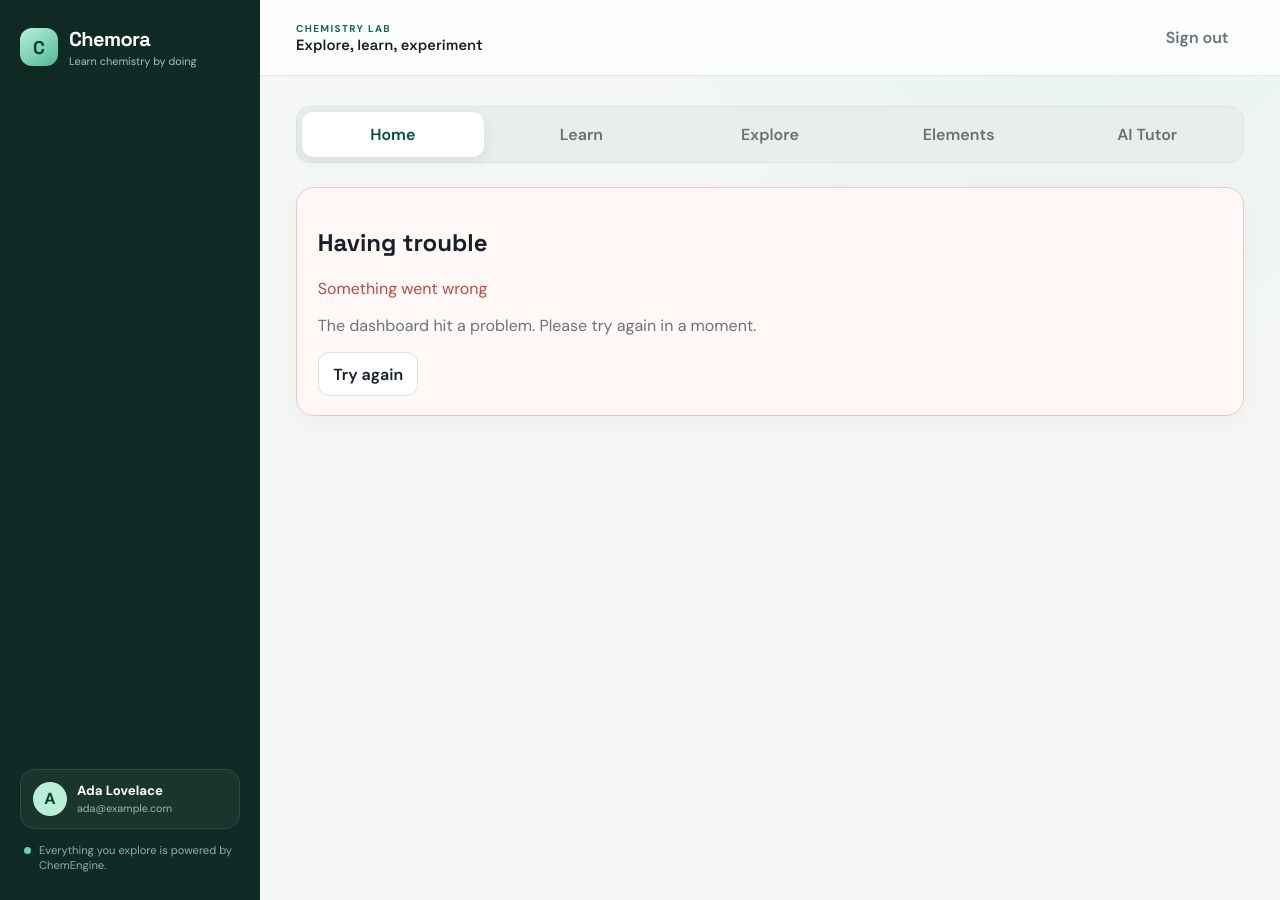
AI Chemistry Tutor (web) › surfaces structured backend errors before streaming starts
Expected: the button "Explore" is shown, [679,112,861,157]
Click the button "AI Tutor" at (1147, 135), box [1056,112,1238,157]
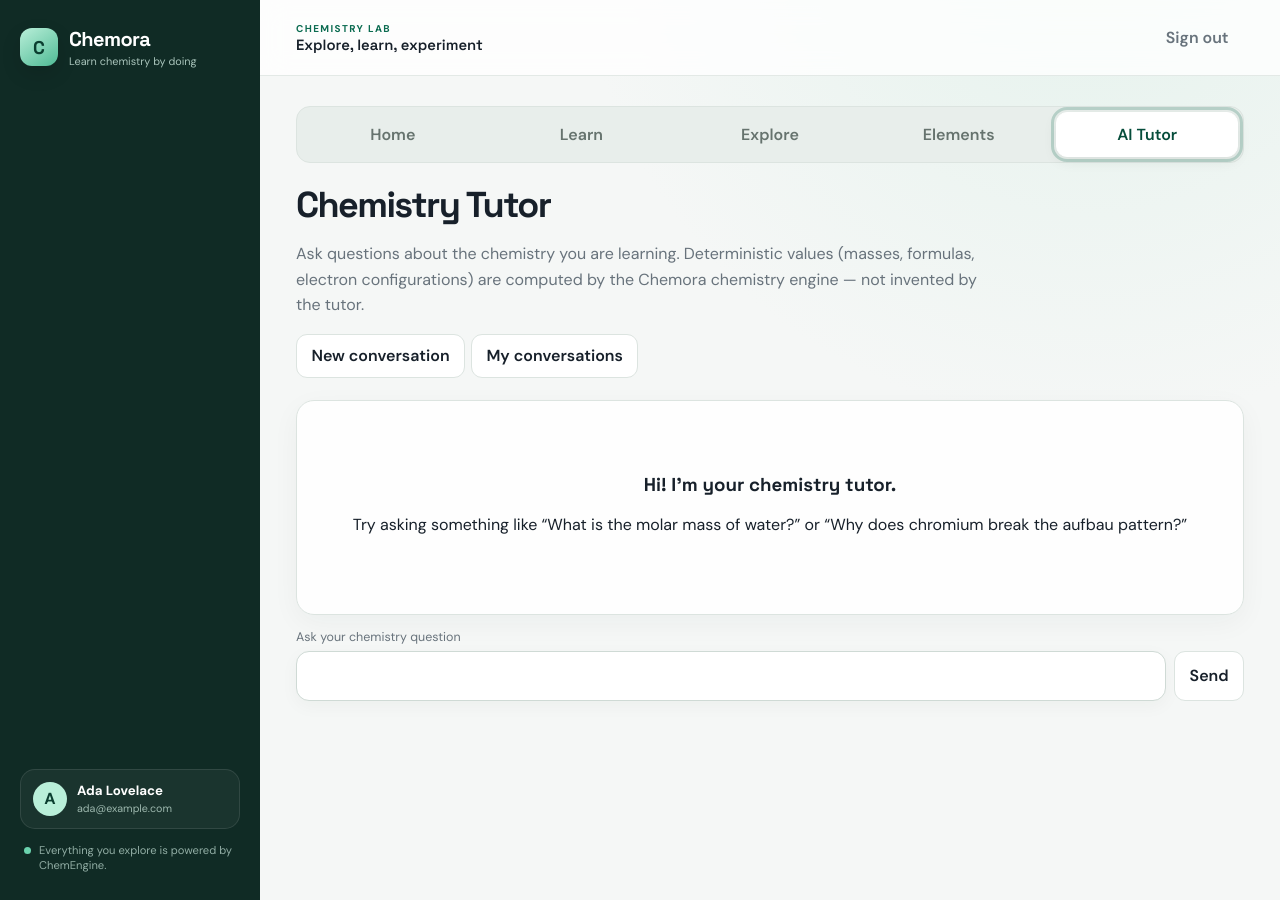
Type "hello" into the field labelled "Ask your chemistry question" at (731, 676), box [296,650,1166,701]
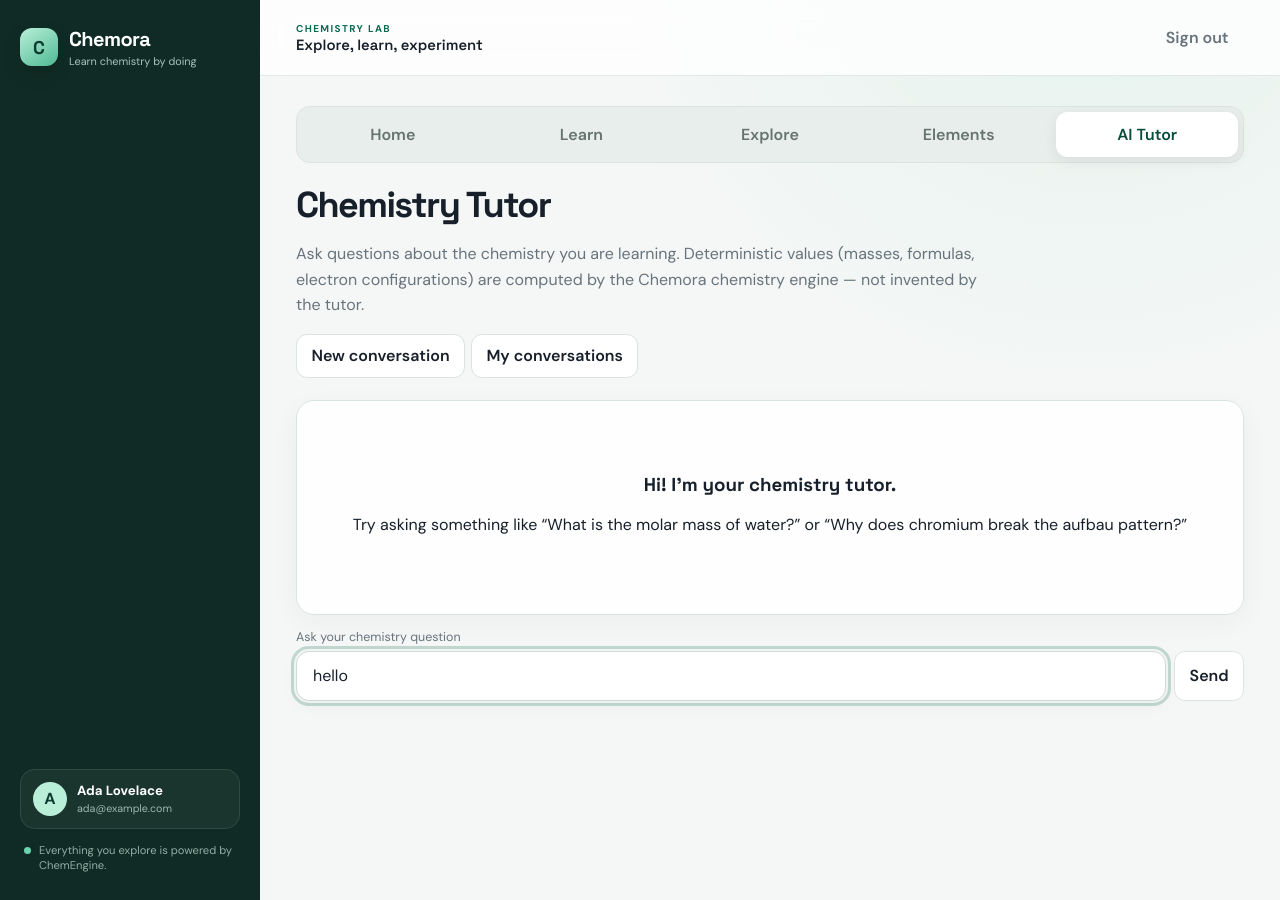
Click the button with test id "tutor-send" at (1209, 676), box [1174,650,1244,701]
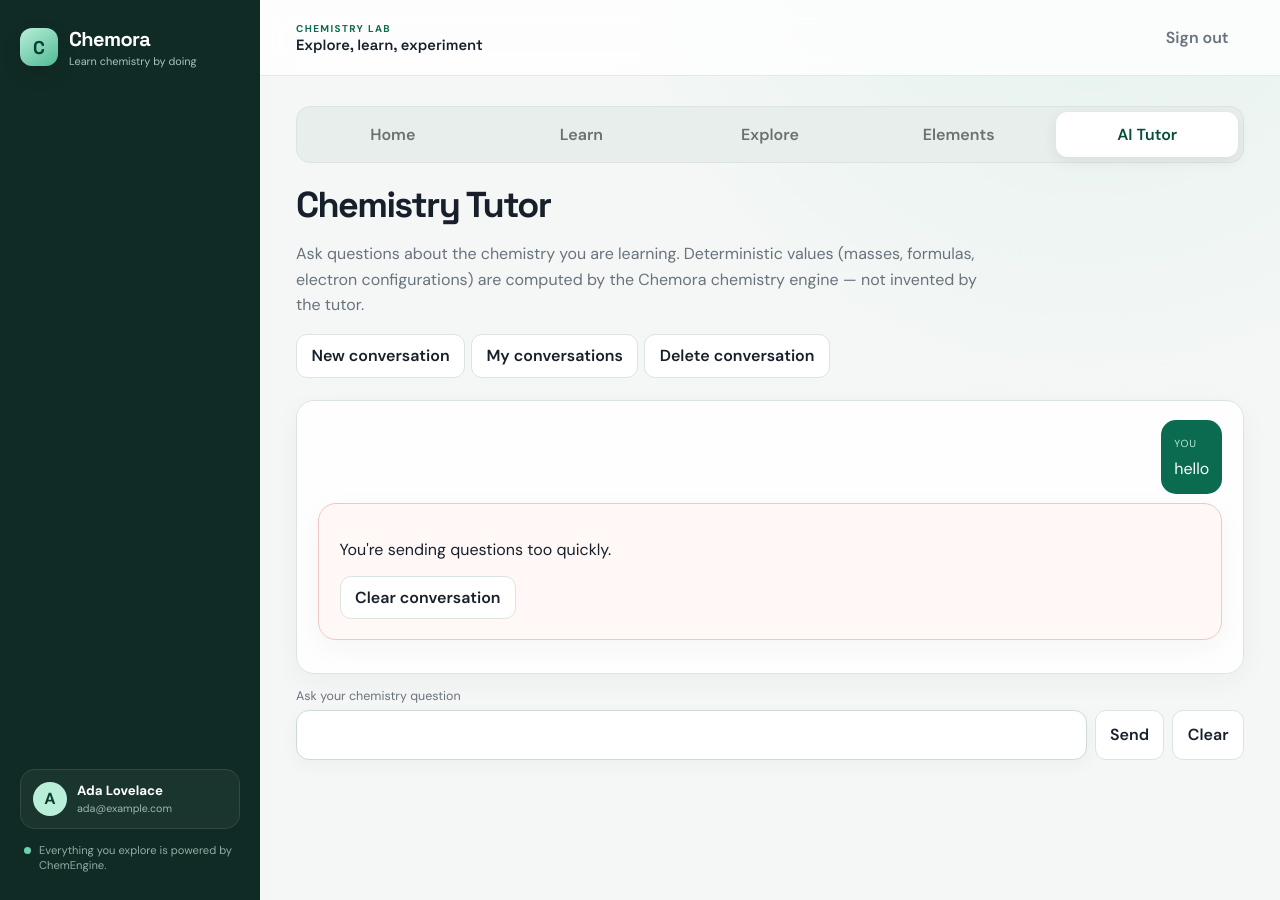
Now the message "You're sending questions too quickly. Clear conversation" is shown, box [318,502,1222,640]
Now the message shows "too quickly", box [340,539,611,560]
Now the list item with test id "tutor-message-user" is shown, box [1161,420,1222,494]
